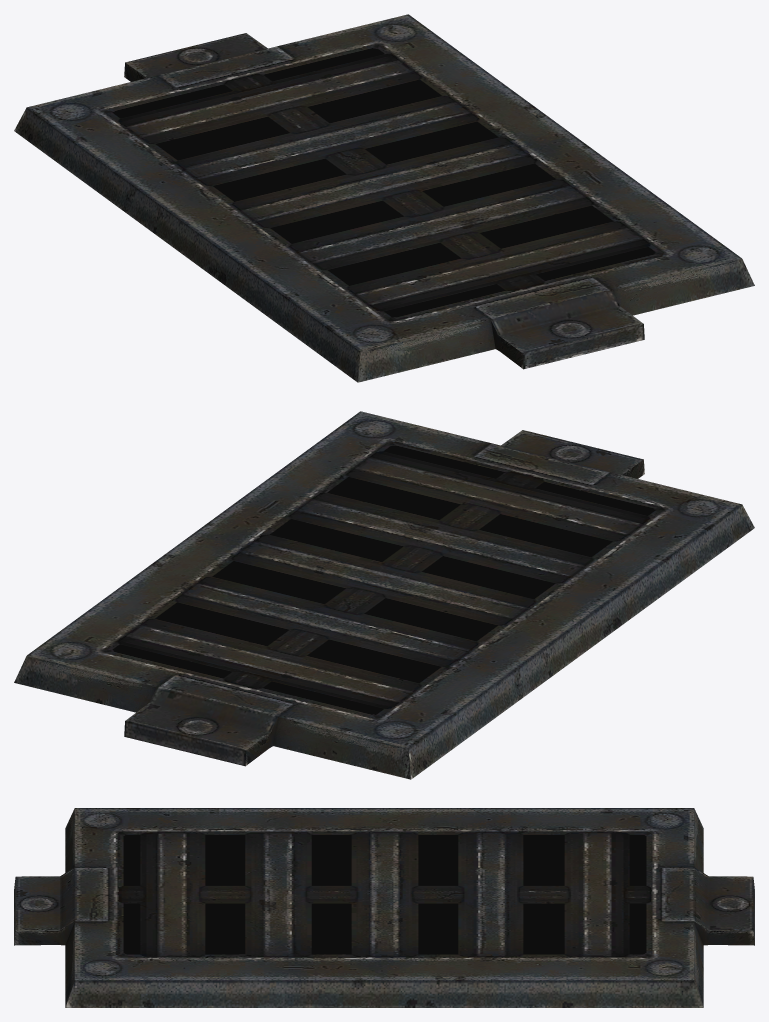
File: drain_floor_small.DAE
The picture shows the model from 3 angles, top to bottom: view 1: azimuth 30°, elevation 25°; view 2: azimuth 150°, elevation 25°; view 3: azimuth 270°, elevation 25°; orthographic projection. The views are drawn at different scales.
Visible parts, largest first — view 1: Box002; view 2: Box002; view 3: Box002.
Part boxes in pixels (box(x1,y1,x2,y2)): Box002: box(14, 14, 754, 382); Box002: box(14, 411, 754, 779); Box002: box(14, 808, 754, 1007).
Bounding box in the file's own units: 0.3439 × 0.021 × 0.599.
